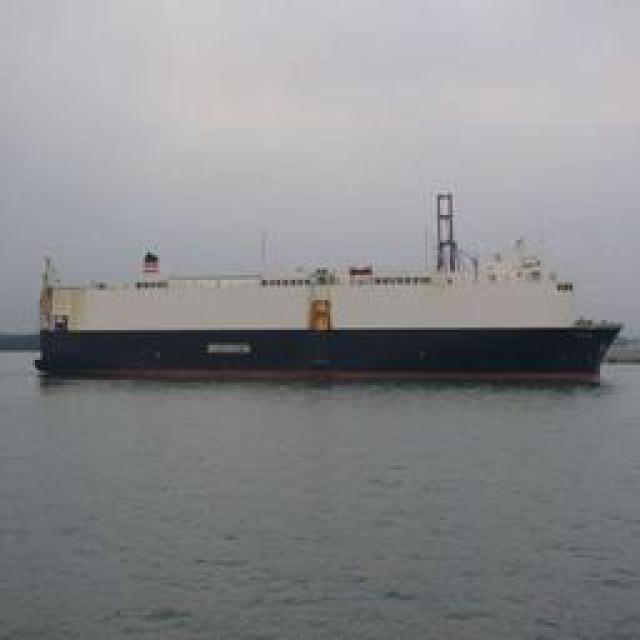Ship: (32, 243, 620, 388)
